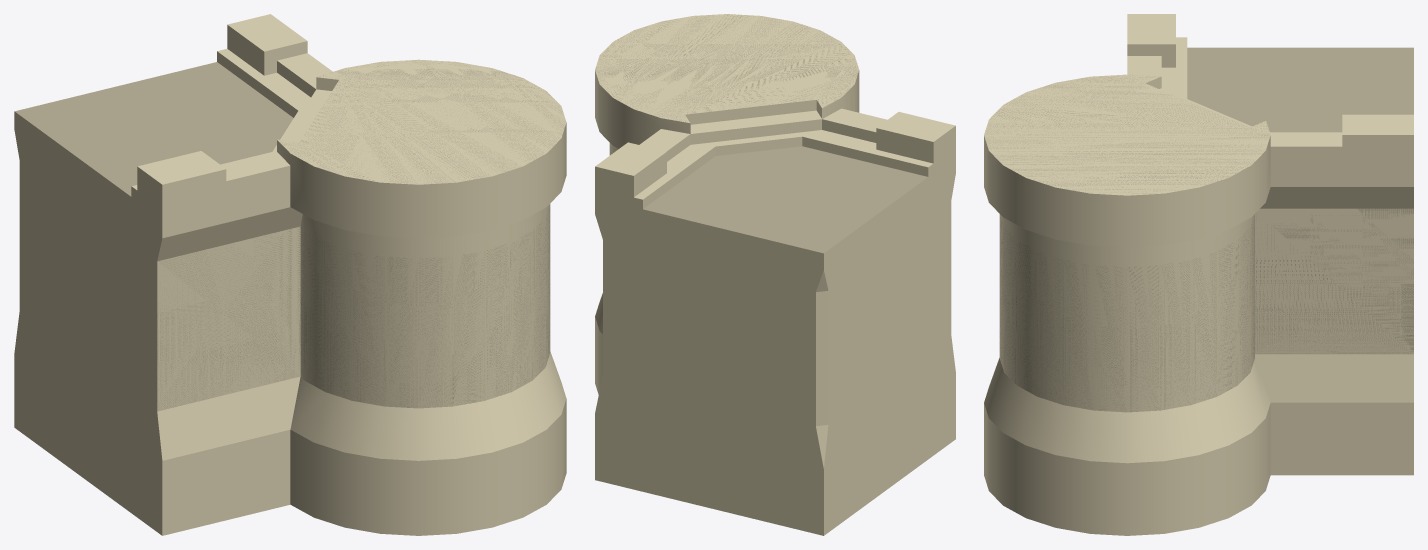
File: wallCornerHalfTower.obj
The picture shows the model from 3 angles, left to right: view 1: azimuth 30°, elevation 25°; view 2: azimuth 150°, elevation 25°; view 3: azimuth 270°, elevation 25°; orthographic projection. The views are drawn at different scales.
Parts seen in each view (by area): view 1: wallCornerHalfTower; view 2: wallCornerHalfTower; view 3: wallCornerHalfTower.
Boxes of the visible parts, left/top/right/bottom form: wallCornerHalfTower: left=14, top=14, right=566, bottom=535; wallCornerHalfTower: left=595, top=14, right=955, bottom=535; wallCornerHalfTower: left=984, top=14, right=1413, bottom=535.
Size of the model in its own units: 15 by 13.1 by 15.
